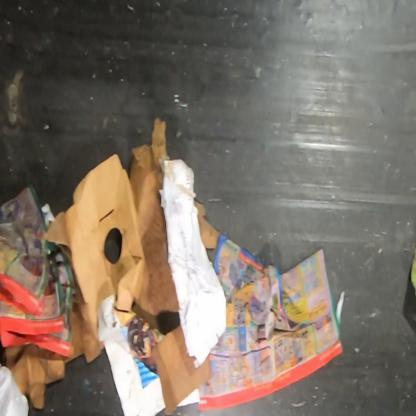cardboard: (65, 153, 145, 339), (1, 292, 104, 411), (129, 116, 179, 318), (152, 324, 212, 416), (194, 198, 222, 250), (42, 212, 71, 262)
soft_plastic: (0, 363, 30, 415)
